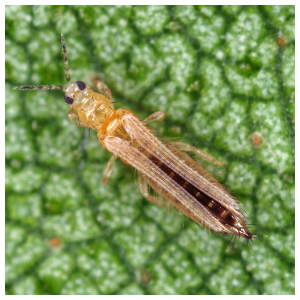Thrips: (29, 44, 260, 261)
